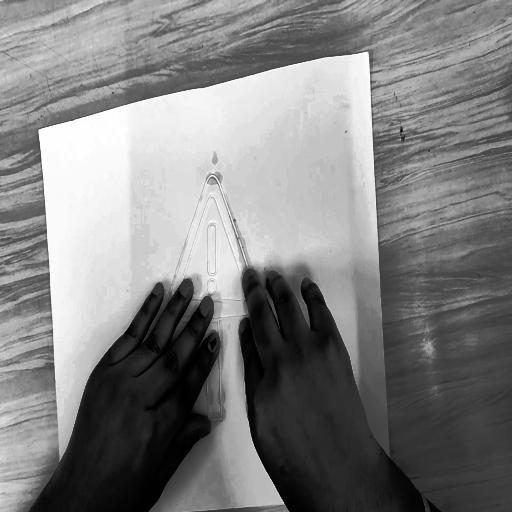signboard: (150, 153, 281, 440)
top_left: (36, 123, 44, 138)
top_right: (362, 47, 373, 60)
